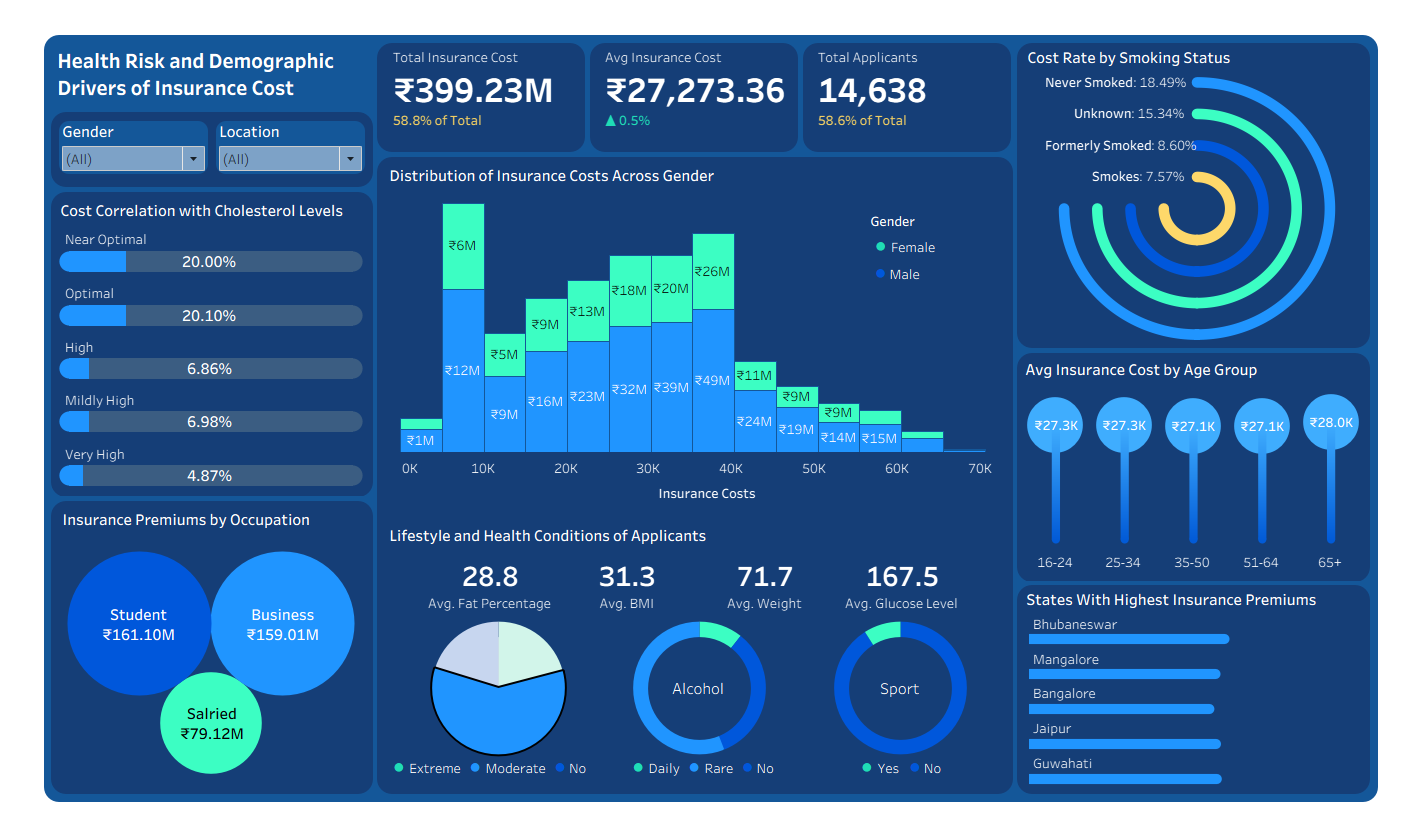

Layout of this report page (visuals, bound fields, positions):
{"tool":"tableau","page":{"name":"Overview","canvas":[1000,1000],"units":"permille","ordinal":0},"visuals":[{"type":"worksheet","title":"Total Insure","mark":"Automatic","box":[296.3,52.9,126.1,134]},{"type":"worksheet","title":"Avg Insure","mark":"Automatic","box":[424.9,52.9,126.1,134]},{"type":"worksheet","title":"Count of App.","mark":"Automatic","box":[554,52.9,126.1,134]},{"type":"blank","box":[89.9,56.4,808.7,902.5]},{"type":"text","box":[96,58.8,210.6,85.8]},{"type":"text","box":[683.8,62.3,188.9,41.1]},{"type":"blank","box":[291.5,65.8,126.1,128.1]},{"type":"blank","box":[420.6,65.8,126.1,128.1]},{"type":"blank","box":[549.8,65.8,126.1,128.1]},{"type":"blank","box":[679.5,65.8,214.2,358.4]},{"type":"worksheet","title":"Smoking Radial","mark":"Line","box":[696.4,90.5,183.5,338.4]},{"type":"blank","box":[94.2,146.9,194.9,88.1]},{"type":"filter","title":"Filters","param":"[federated.0mix84j1bg9yli1973xne18jgpg7].[none:Gender:nk]","box":[99,157.5,90.5,62.3]},{"type":"filter","title":"Filters","param":"[federated.0mix84j1bg9yli1973xne18jgpg7].[none:Location:nk]","box":[193.7,157.5,90.5,62.3]},{"type":"blank","box":[291.6,199.8,385.2,749.7]},{"type":"text","box":[296.9,200.9,214.8,41.1]},{"type":"worksheet","title":"Filters","mark":"Automatic","box":[284.9,216.2,333.1,332.6]},{"type":"worksheet","title":"Dist, Ins. by Gender","mark":"Bar","rows":["applicant_id"],"cols":["Insurance Cost (bin)"],"box":[305.4,240,372.1,374.1]},{"type":"blank","box":[94.2,240.9,194.9,358.4]},{"type":"text","box":[97.8,242.1,176.8,41.1]},{"type":"text","box":[588.7,260.9,59.6,94]},{"type":"worksheet","title":"Cholestrol Level Labels","mark":"Circle","rows":["cholesterol_level"],"box":[99,264.4,141.2,316.1]},{"type":"worksheet","title":"Cholestrol Level","mark":"Automatic","rows":["cholesterol_level"],"box":[90.5,291.4,201,313.8]},{"type":"text","box":[682.6,428.9,187.7,41.1]},{"type":"blank","box":[679.5,430.1,214.2,269.1]},{"type":"worksheet","title":"Age Dist.","mark":"Line","rows":["insurance_cost"],"box":[682,472.4,208.2,215]},{"type":"blank","box":[94.2,605.2,194.9,344.3]},{"type":"text","box":[99,606.4,172,41.1]},{"type":"text","box":[297,624.7,206.1,41.2]},{"type":"worksheet","title":"Medical Status","mark":"Automatic","box":[318.7,640.4,333.1,104.6]},{"type":"worksheet","title":"Occupation","mark":"Circle","box":[103,655.7,174.9,278.5]},{"type":"worksheet","title":"Medical Status Titles","mark":"Automatic","box":[318.2,687.1,332.7,70.6]},{"type":"text","box":[683,700,194.6,41.2]},{"type":"blank","box":[679.5,703.9,214.2,245.6]},{"type":"worksheet","title":"Exercise Chart","mark":"Pie","cols":["Calculation_1264201156042767","Calculation_1264201156079633"],"box":[304.2,722.7,121.9,204.5]},{"type":"worksheet","title":"Alcohol","mark":"Pie","cols":["Calculation_1264201156042767","Calculation_1264201156079633"],"box":[426.1,722.7,121.9,204.5]},{"type":"worksheet","title":"Sport","mark":"Pie","cols":["Calculation_1264201156042767","Calculation_1264201156079633"],"box":[548,722.7,121.9,204.5]},{"type":"worksheet","title":"Location Labels","mark":"Circle","rows":["Location (copy)_1246884514562048"],"box":[685.6,728.6,144.8,204.5]},{"type":"worksheet","title":"Location","mark":"Line","rows":["Location (copy)_1246884514562048"],"box":[686.8,746.2,204.6,205.6]},{"type":"text","box":[294.7,895.4,130.3,41.1]},{"type":"text","box":[436.7,895.4,104.2,41.1]},{"type":"text","box":[574.5,895.4,68.8,41.1]}]}

Visuals, with their boxes on the dashboard's canvas, which has no fixed pixel size, in thousandths of its width and height (x1, y1, x2, y2). These are canvas units, not pixel positions in the 1427x833 screenshot, which may show the page scaled, cropped or inside an application window:
"Total Insure" worksheet: bbox=[296, 53, 422, 187]
"Avg Insure" worksheet: bbox=[425, 53, 551, 187]
"Count of App." worksheet: bbox=[554, 53, 680, 187]
blank: bbox=[90, 56, 899, 959]
text: bbox=[96, 59, 307, 145]
text: bbox=[684, 62, 873, 103]
blank: bbox=[292, 66, 418, 194]
blank: bbox=[421, 66, 547, 194]
blank: bbox=[550, 66, 676, 194]
blank: bbox=[680, 66, 894, 424]
"Smoking Radial" worksheet (Line marks): bbox=[696, 90, 880, 429]
blank: bbox=[94, 147, 289, 235]
"Filters" filter: bbox=[99, 158, 190, 220]
"Filters" filter: bbox=[194, 158, 284, 220]
blank: bbox=[292, 200, 677, 950]
text: bbox=[297, 201, 512, 242]
"Filters" worksheet: bbox=[285, 216, 618, 549]
"Dist, Ins. by Gender" worksheet (Bar marks): bbox=[305, 240, 678, 614]
blank: bbox=[94, 241, 289, 599]
text: bbox=[98, 242, 275, 283]
text: bbox=[589, 261, 648, 355]
"Cholestrol Level Labels" worksheet (Circle marks): bbox=[99, 264, 240, 580]
"Cholestrol Level" worksheet: bbox=[90, 291, 292, 605]
text: bbox=[683, 429, 870, 470]
blank: bbox=[680, 430, 894, 699]
"Age Dist." worksheet (Line marks): bbox=[682, 472, 890, 687]
blank: bbox=[94, 605, 289, 950]
text: bbox=[99, 606, 271, 648]
text: bbox=[297, 625, 503, 666]
"Medical Status" worksheet: bbox=[319, 640, 652, 745]
"Occupation" worksheet (Circle marks): bbox=[103, 656, 278, 934]
"Medical Status Titles" worksheet: bbox=[318, 687, 651, 758]
text: bbox=[683, 700, 878, 741]
blank: bbox=[680, 704, 894, 950]
"Exercise Chart" worksheet (Pie marks): bbox=[304, 723, 426, 927]
"Alcohol" worksheet (Pie marks): bbox=[426, 723, 548, 927]
"Sport" worksheet (Pie marks): bbox=[548, 723, 670, 927]
"Location Labels" worksheet (Circle marks): bbox=[686, 729, 830, 933]
"Location" worksheet (Line marks): bbox=[687, 746, 891, 952]
text: bbox=[295, 895, 425, 936]
text: bbox=[437, 895, 541, 936]
text: bbox=[574, 895, 643, 936]
